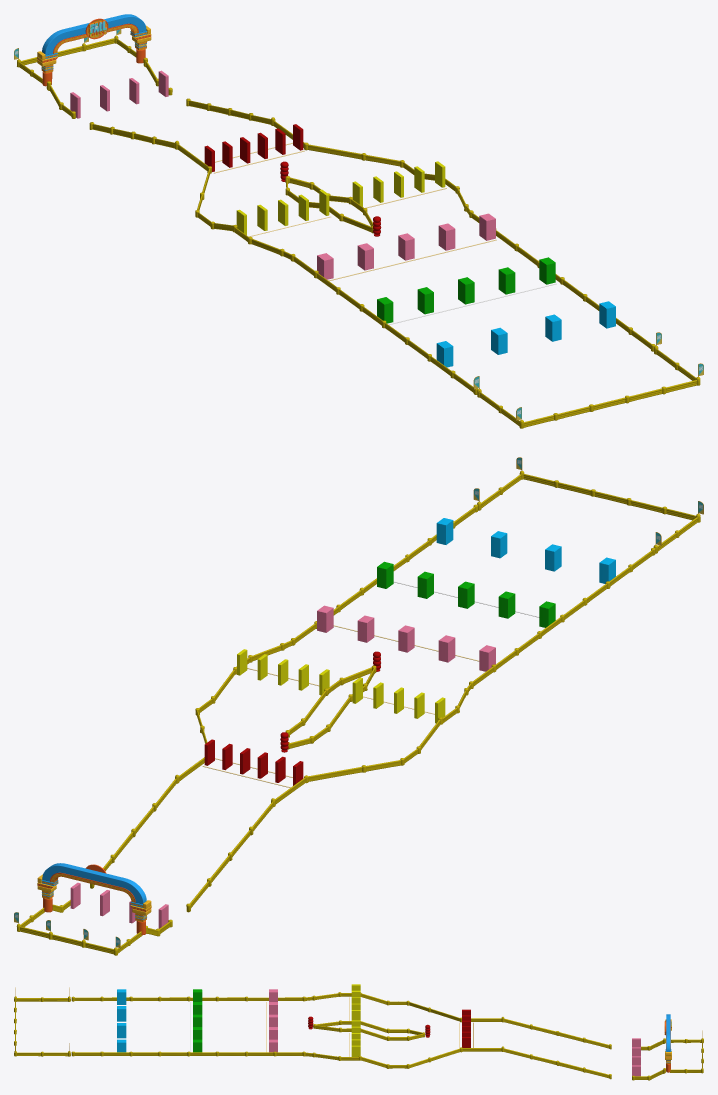
Rendered from DoorDashWallCollisionMesh.fbx.
3 renders of one model, top to bottom at view 1: azimuth 30°, elevation 25°; view 2: azimuth 150°, elevation 25°; view 3: azimuth 270°, elevation 25°, orthographic. The views are drawn at different scales.
Parts seen in each view (by area): view 1: ENV_S05_FinishPlatform_Medium_Archway_MO_0, Combined_Mesh__root__scene__2_35, Combined_Mesh__root__scene__2_36, Combined_Mesh__root__scene__2_38, Combined_Mesh__root__scene__2_33, Combined_Mesh__root__scene__2_39, Combined_Mesh__root__scene__2_29, Combined_Mesh__root__scene__2_37; view 2: ENV_S05_FinishPlatform_Medium_Archway_MO_0, Combined_Mesh__root__scene__2_35, Combined_Mesh__root__scene__2_36, Combined_Mesh__root__scene__2_38, Combined_Mesh__root__scene__2_33, Combined_Mesh__root__scene__2_37, Combined_Mesh__root__scene__2_29; view 3: Combined_Mesh__root__scene__2_38, Combined_Mesh__root__scene__2_36, Combined_Mesh__root__scene__2_33, Combined_Mesh__root__scene__2_39, Combined_Mesh__root__scene__2_37, Combined_Mesh__root__scene__2_35, Combined_Mesh__root__scene__2_34, Combined_Mesh__root__scene__2_30, ENV_S05_FinishPlatform_Medium_Archway_MO_0, Combined_Mesh__root__scene__2_29.
Boxes of the visible parts, x1,y1,x2,y2 form: ENV_S05_FinishPlatform_Medium_Archway_MO_0: (37,14,151,86); Combined_Mesh__root__scene__2_35: (477,348,700,428); Combined_Mesh__root__scene__2_36: (234,227,477,394); Combined_Mesh__root__scene__2_38: (445,178,655,351); Combined_Mesh__root__scene__2_33: (285,176,373,233); Combined_Mesh__root__scene__2_39: (271,120,434,180); Combined_Mesh__root__scene__2_29: (17,37,136,83); Combined_Mesh__root__scene__2_37: (174,143,237,232); ENV_S05_FinishPlatform_Medium_Archway_MO_0: (37,863,151,935); Combined_Mesh__root__scene__2_35: (477,473,700,553); Combined_Mesh__root__scene__2_36: (443,548,655,723); Combined_Mesh__root__scene__2_38: (236,504,478,667); Combined_Mesh__root__scene__2_33: (285,665,376,749); Combined_Mesh__root__scene__2_37: (271,717,442,806); Combined_Mesh__root__scene__2_29: (16,907,142,955); Combined_Mesh__root__scene__2_38: (71,1051,358,1060); Combined_Mesh__root__scene__2_36: (71,992,351,1001); Combined_Mesh__root__scene__2_33: (313,1020,424,1040); Combined_Mesh__root__scene__2_39: (358,1047,504,1068); Combined_Mesh__root__scene__2_37: (360,992,504,1022); Combined_Mesh__root__scene__2_35: (14,997,70,1056); Combined_Mesh__root__scene__2_34: (504,1018,611,1049); Combined_Mesh__root__scene__2_30: (504,1048,611,1079); ENV_S05_FinishPlatform_Medium_Archway_MO_0: (664,1014,671,1072); Combined_Mesh__root__scene__2_29: (670,1039,703,1073).
Size of the model in its own units: 171 by 60.87 by 762.
